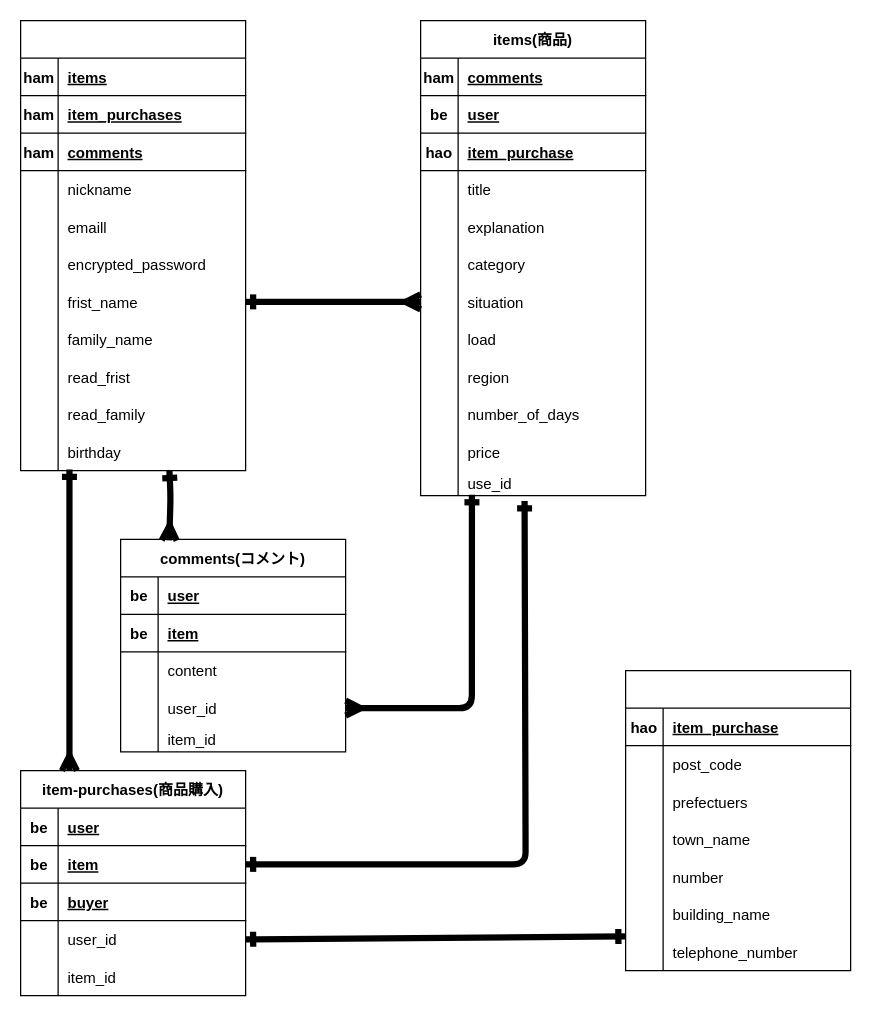
Image size: 871x1016. Some labels were removed from this diagram. Each missing label, with the box of its shape:
buyers(購入先): (624, 669, 851, 971)
users(ユーザー): (19, 19, 246, 471)
